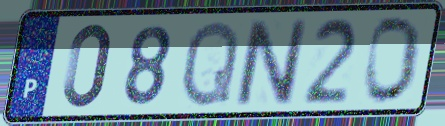0: (60, 21, 114, 111)
2: (301, 15, 361, 107)
8: (123, 23, 173, 107)
N: (233, 17, 309, 109)
O: (361, 13, 425, 107)
Q: (178, 17, 243, 110)
